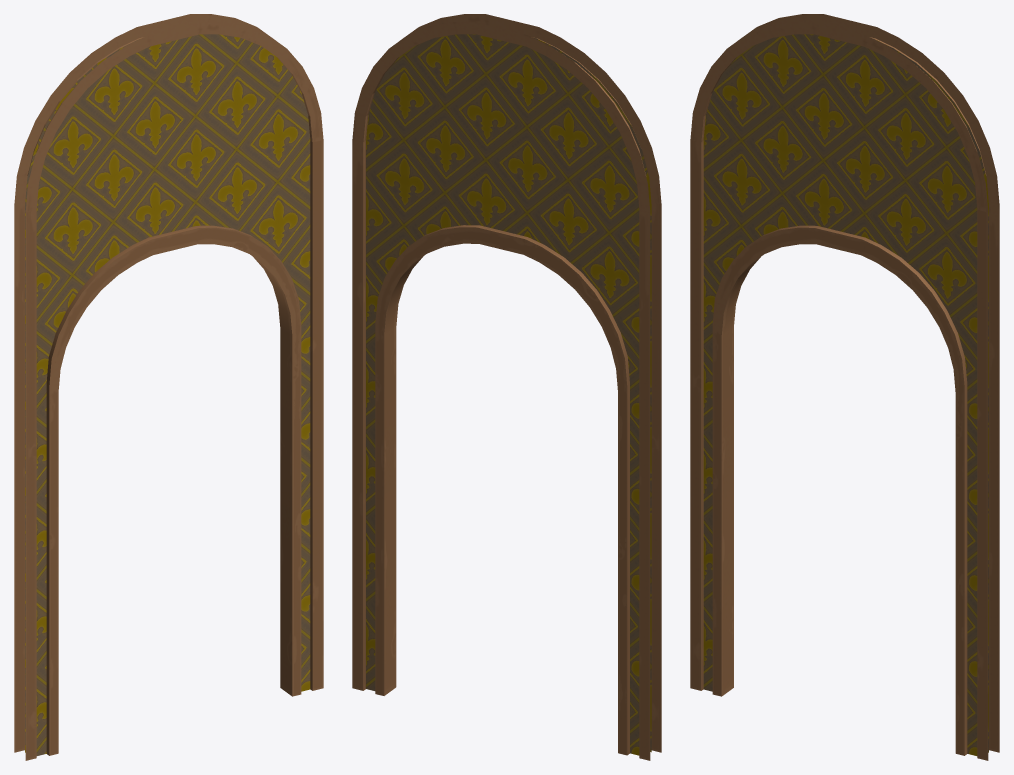
Rendered from ARC0510101.fbx.
3 renders of one model, left to right at view 1: azimuth 30°, elevation 25°; view 2: azimuth 150°, elevation 25°; view 3: azimuth 330°, elevation 25°, orthographic.
Visible parts, largest first — view 1: smARC0510101; view 2: smARC0510101; view 3: smARC0510101.
Part boxes in pixels (box(x1,y1,x2,y2)): smARC0510101: box(14, 14, 323, 760); smARC0510101: box(352, 14, 661, 760); smARC0510101: box(690, 14, 999, 760).
Bounding box in the file's own units: 217 × 483 × 15.34.
